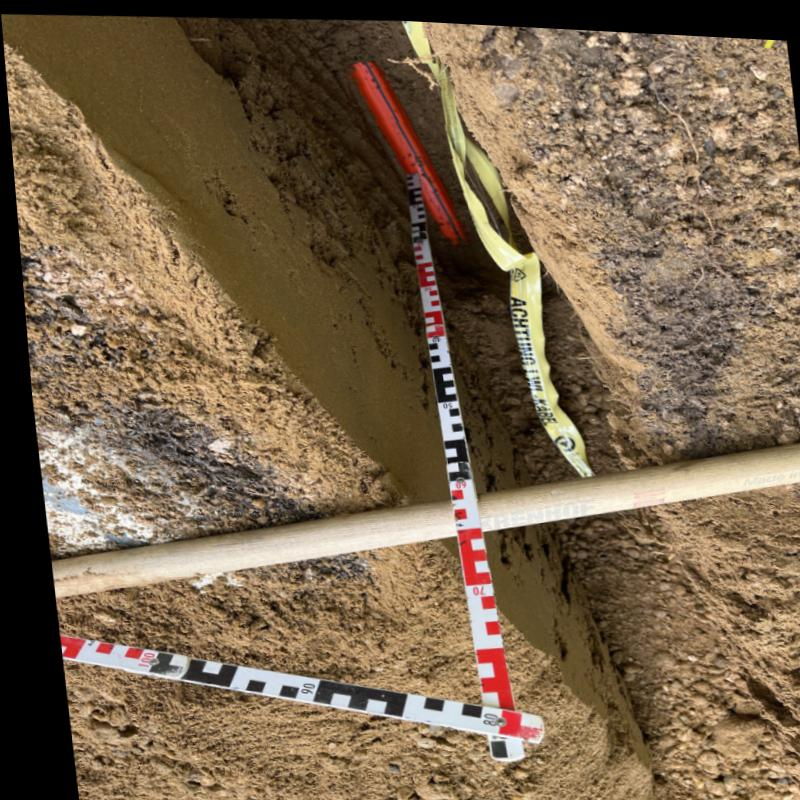Orang-Speednetrohrchen: (344, 58, 467, 238)
